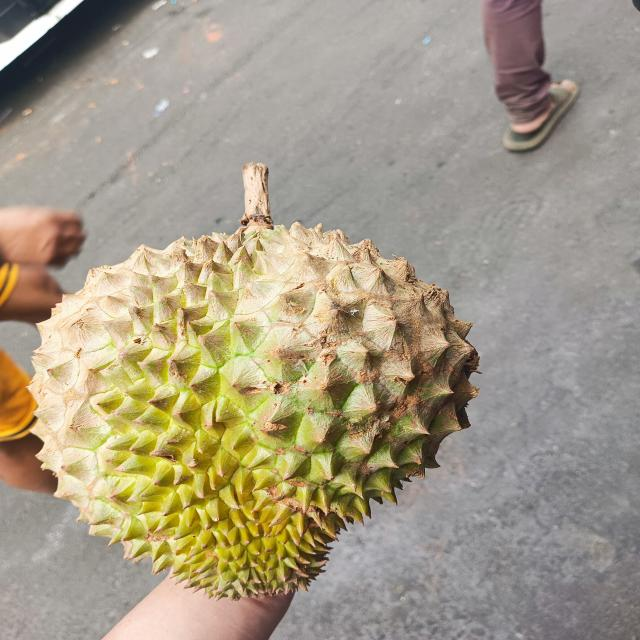mature: (31, 163, 478, 599)
